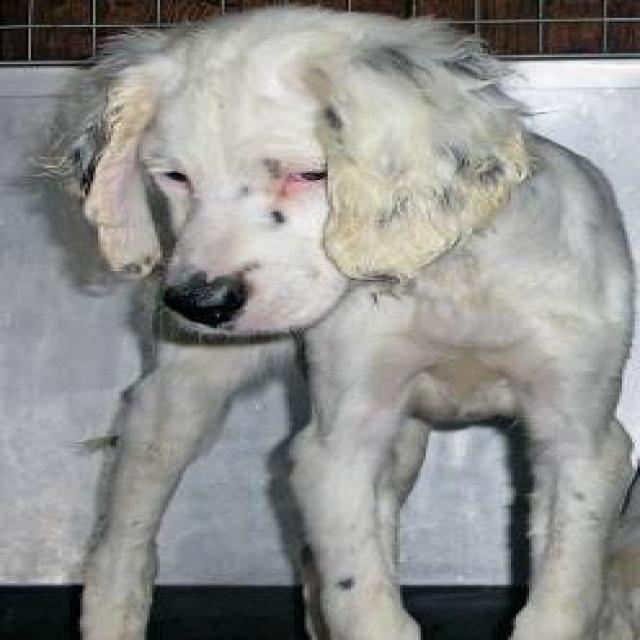dog: (28, 2, 638, 638)
